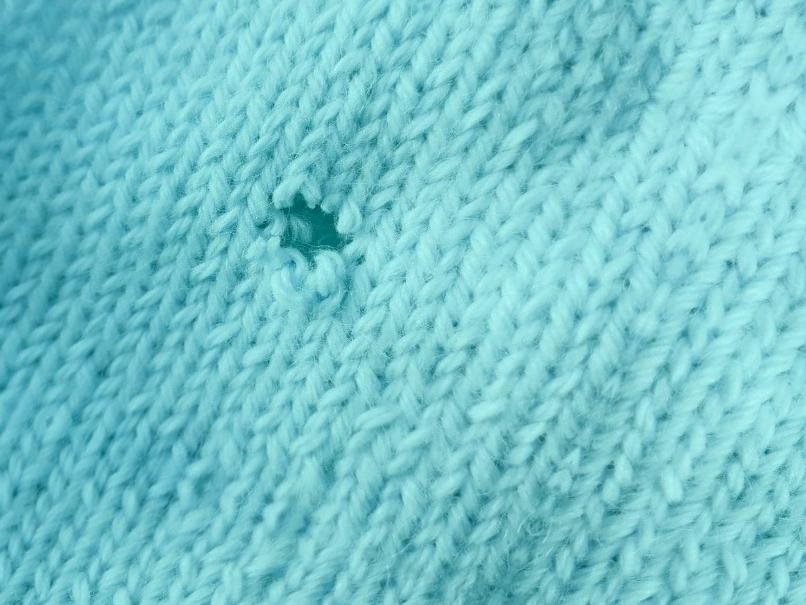hole: (249, 184, 366, 275)
